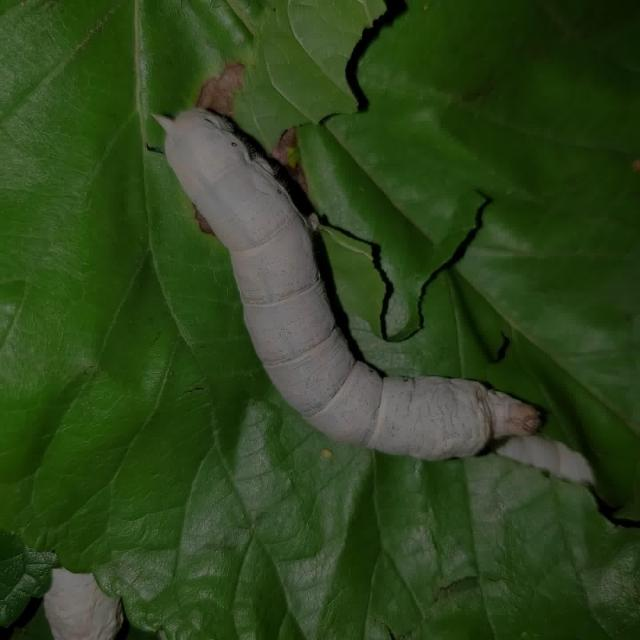Healthy: (117, 64, 558, 493)
